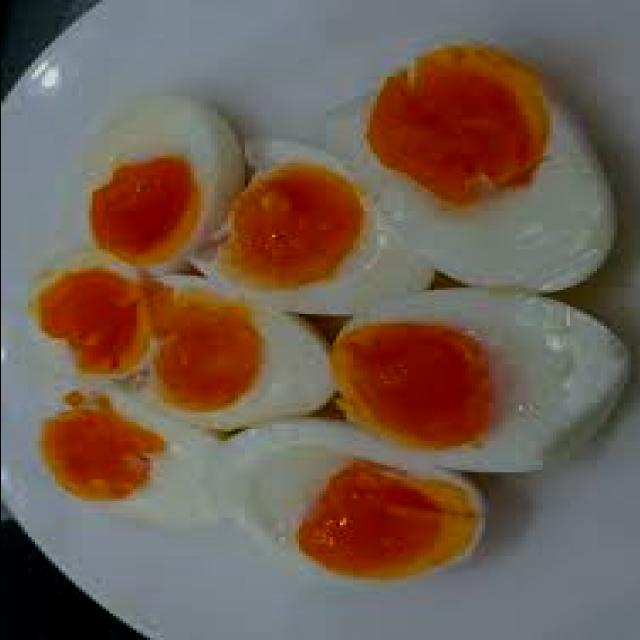telur rebus: (348, 25, 618, 302), (331, 279, 629, 481), (200, 416, 490, 606), (221, 140, 438, 328), (136, 276, 341, 438), (72, 89, 246, 270), (44, 372, 215, 552), (18, 252, 168, 388)
